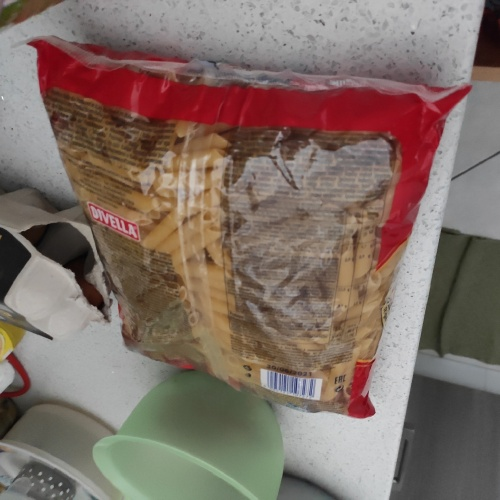pasta: (91, 87, 447, 376)
